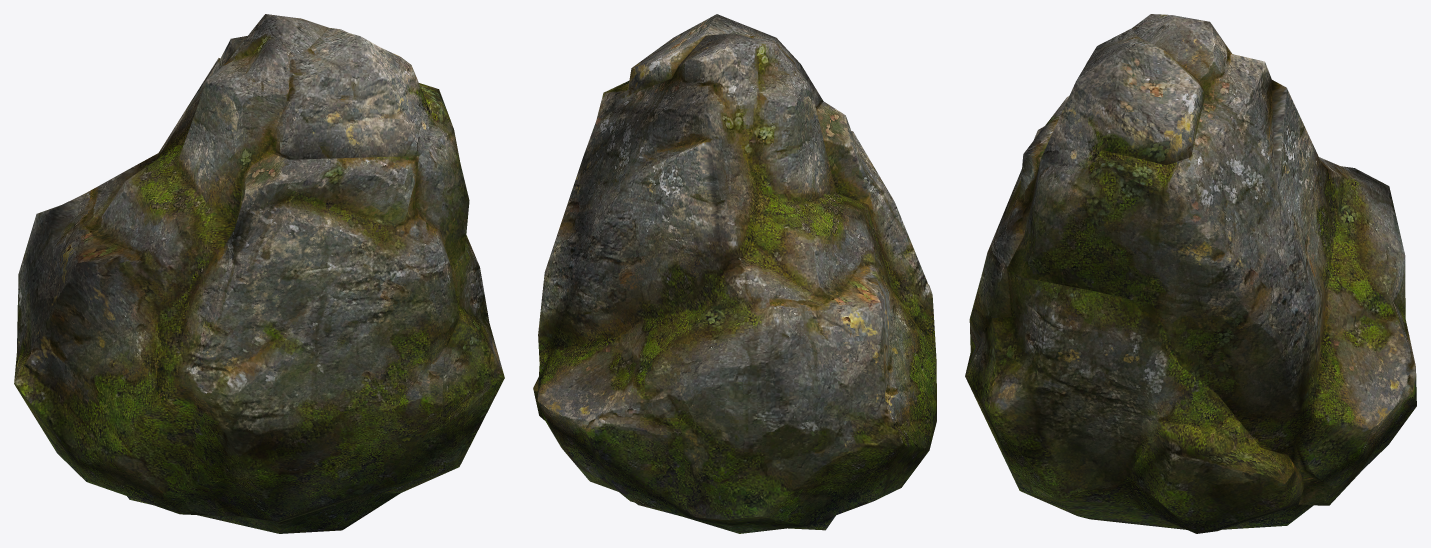
File: Rock04.glb
3 renders of one model, left to right at view 1: azimuth 30°, elevation 25°; view 2: azimuth 150°, elevation 25°; view 3: azimuth 270°, elevation 25°, orthographic. The views are drawn at different scales.
Visible parts, largest first — view 1: common_rock04; view 2: common_rock04; view 3: common_rock04.
Part boxes in pixels (x1,y1,x2,y2): common_rock04: [14, 14, 504, 533]; common_rock04: [533, 14, 936, 533]; common_rock04: [965, 14, 1416, 533].
Bounding box in the file's own units: 2.94 × 3.39 × 2.8.
1 material, 1 textured.
